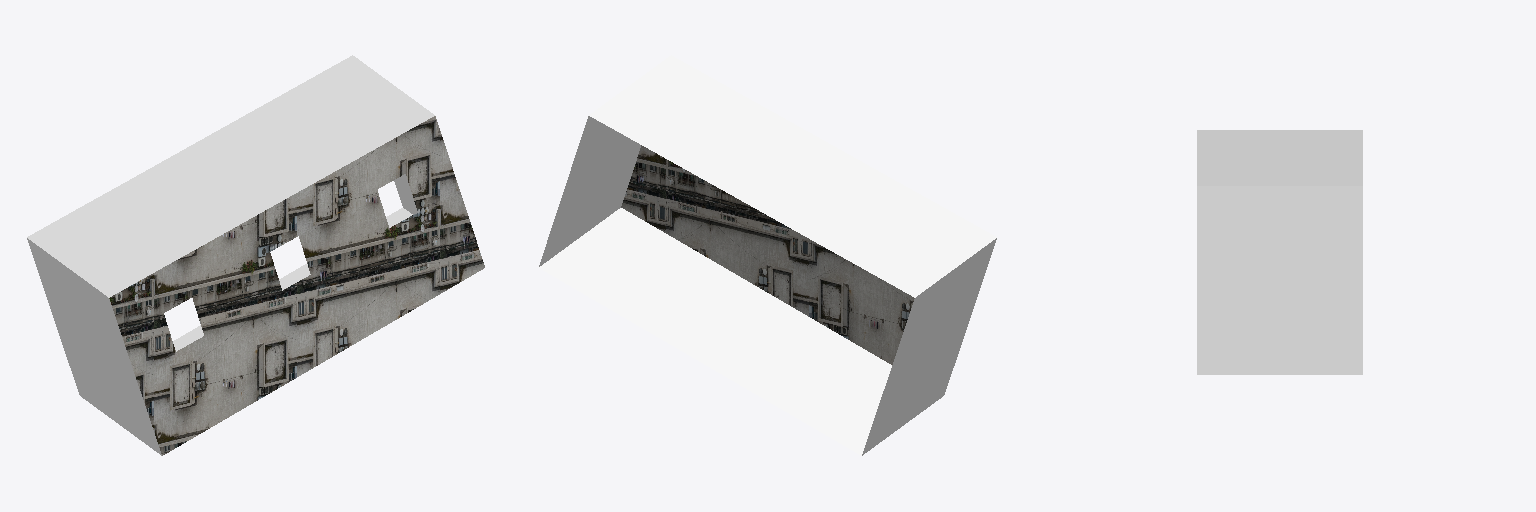
The picture shows the model from 3 angles: view 1: azimuth 30°, elevation 25°; view 2: azimuth 150°, elevation 25°; view 3: azimuth 270°, elevation 25°; orthographic projection.
Parts seen in each view (by area): view 1: Building; view 2: Building; view 3: Building.
Part boxes in pixels (x1,y1,x2,y2): Building: (27,55,484,455); Building: (539,55,996,455); Building: (1197,130,1362,374).
Bounding box in the file's own units: 39.47 × 27.45 × 15.
2 materials, 1 textured.